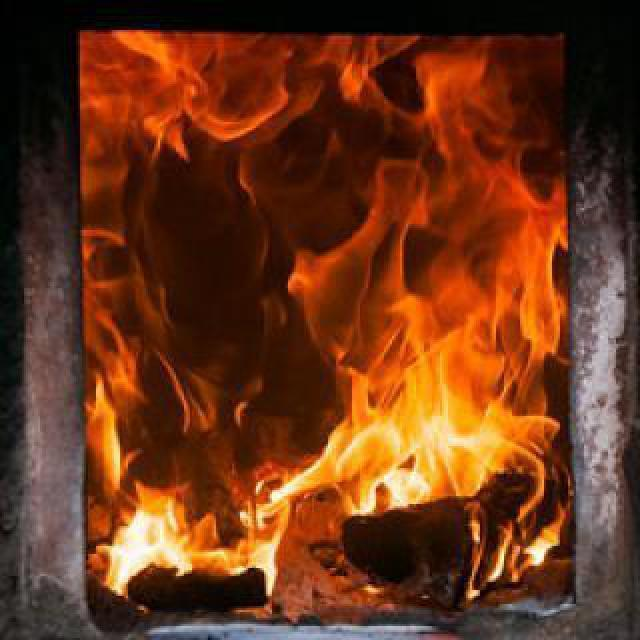Fire: (74, 36, 564, 616)
